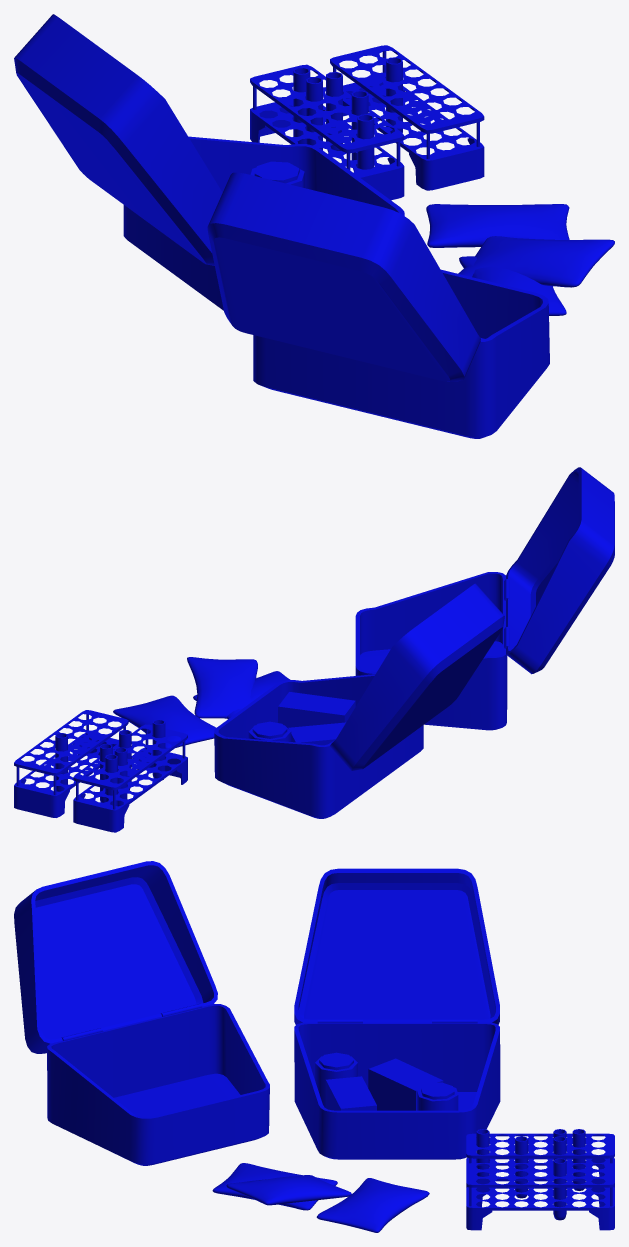
The model's file is ClutterPile_5.FBX.
3 renders of one model, top to bottom at view 1: azimuth 30°, elevation 25°; view 2: azimuth 150°, elevation 25°; view 3: azimuth 270°, elevation 25°, orthographic. The views are drawn at different scales.
Parts seen in each view (by area): view 1: ClutterPile_5; view 2: ClutterPile_5; view 3: ClutterPile_5.
Boxes of the visible parts, <box> form: ClutterPile_5: <box>14,14,614,438</box>; ClutterPile_5: <box>14,467,614,832</box>; ClutterPile_5: <box>14,861,614,1232</box>.
Size of the model in its own units: 14.92 by 7.48 by 20.09.
